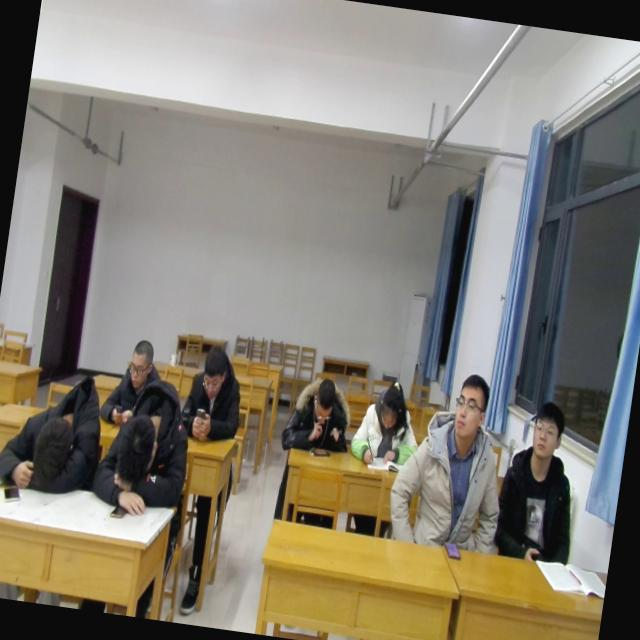bow: (89, 385, 198, 528), (0, 367, 113, 496)
down: (195, 339, 232, 404), (372, 376, 409, 436), (122, 332, 156, 392), (308, 372, 341, 424)
lookup: (449, 368, 495, 446), (524, 392, 572, 466)
sit: (385, 364, 519, 550), (494, 394, 590, 566), (346, 376, 428, 476), (178, 338, 250, 448), (278, 368, 358, 457), (100, 333, 168, 422)
